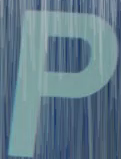Parking: (6, 5, 111, 149)
